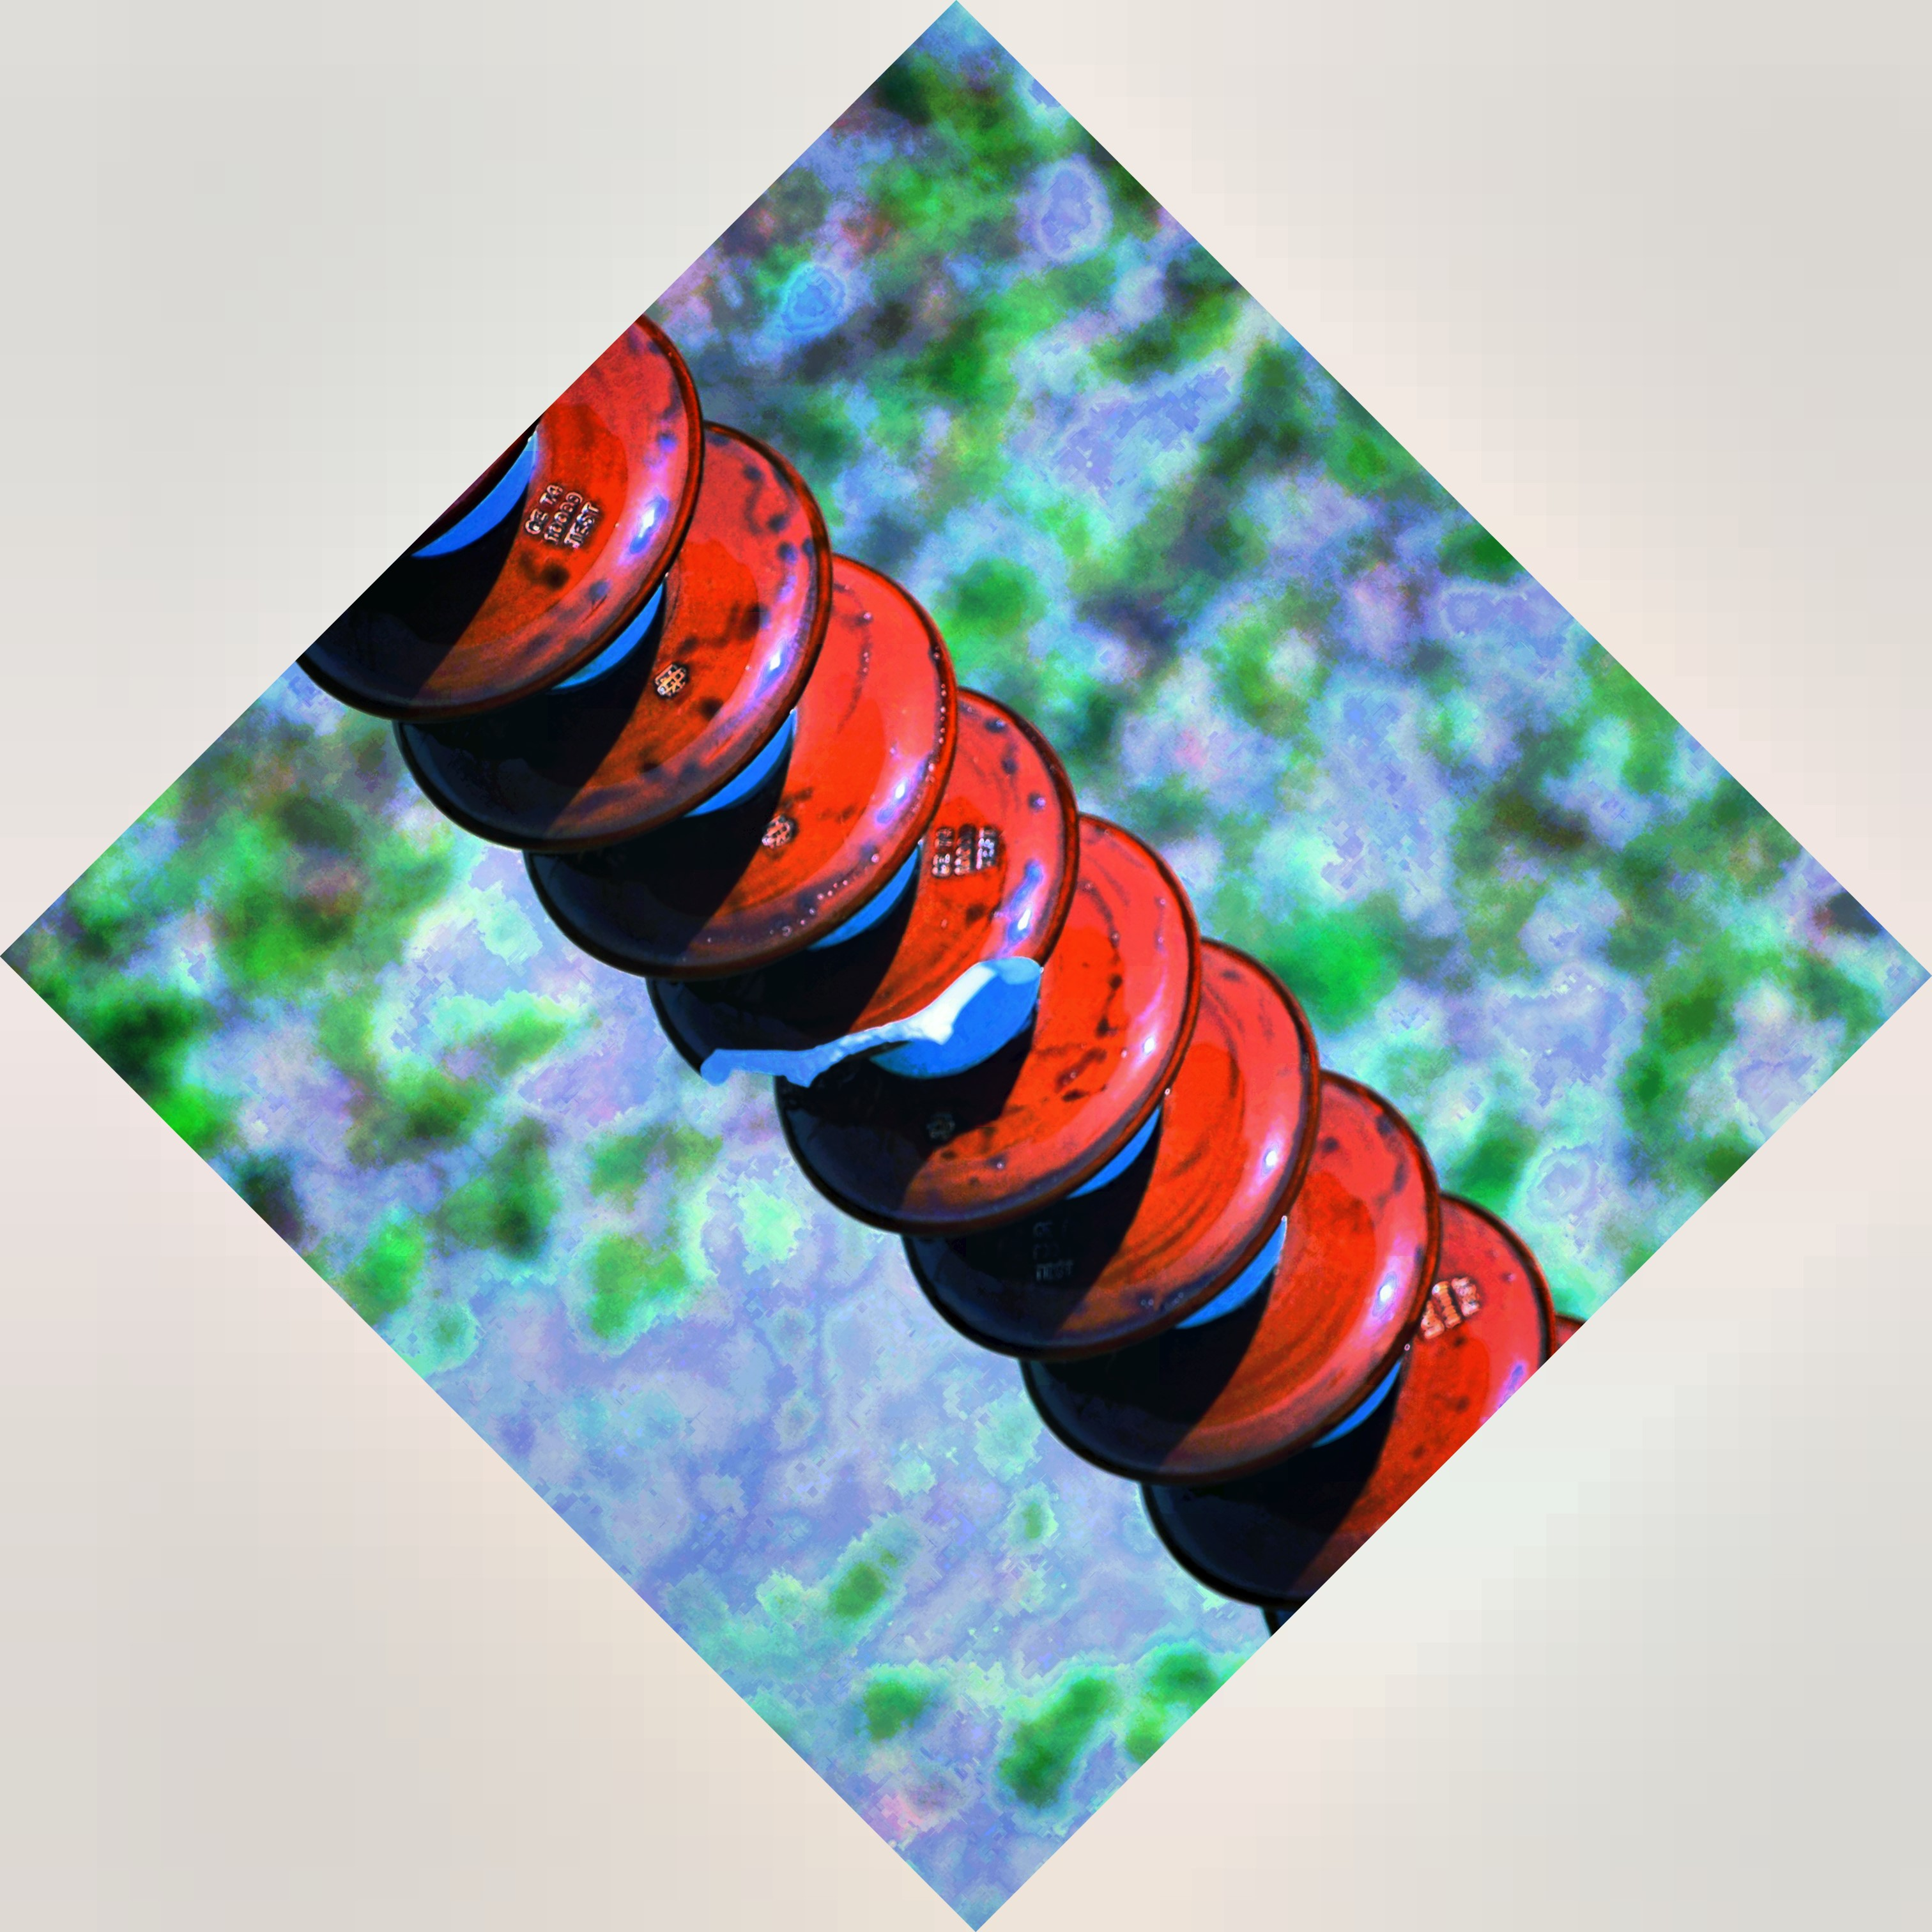insulator breakage: (651, 683, 1070, 1109)
